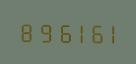eight: (17, 19, 32, 43)
nine: (33, 19, 48, 43)
one: (66, 19, 81, 44), (98, 20, 113, 44)
six: (50, 19, 65, 43), (82, 20, 97, 44)
